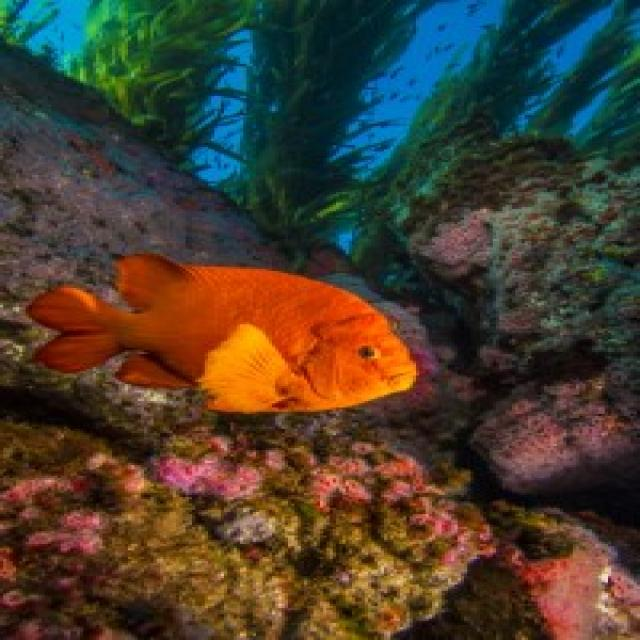Healthy: (161, 428, 478, 639), (1, 421, 203, 639), (411, 140, 635, 325), (471, 342, 638, 494), (494, 502, 638, 639)
